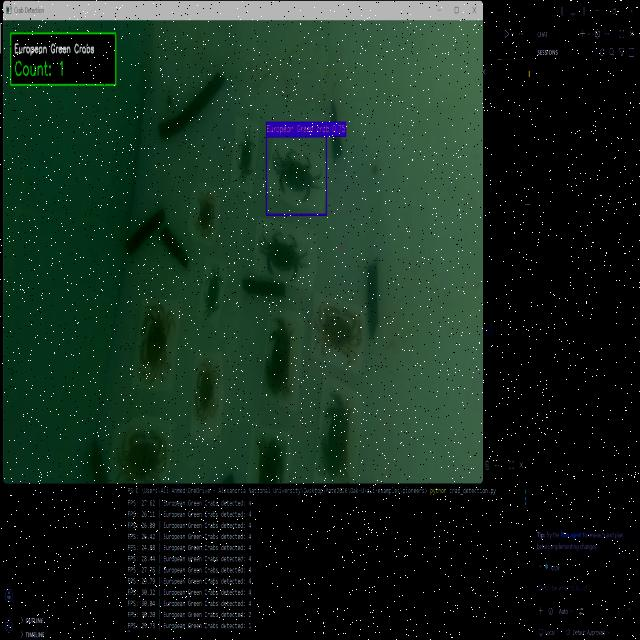European_Green_Crab: (267, 140, 323, 205), (257, 226, 308, 284), (200, 265, 226, 325), (232, 126, 256, 185)
